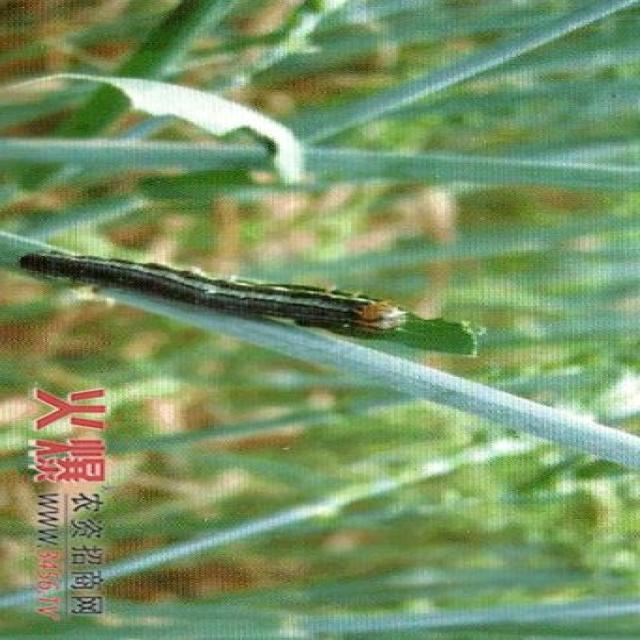army worm: (17, 241, 405, 338)
